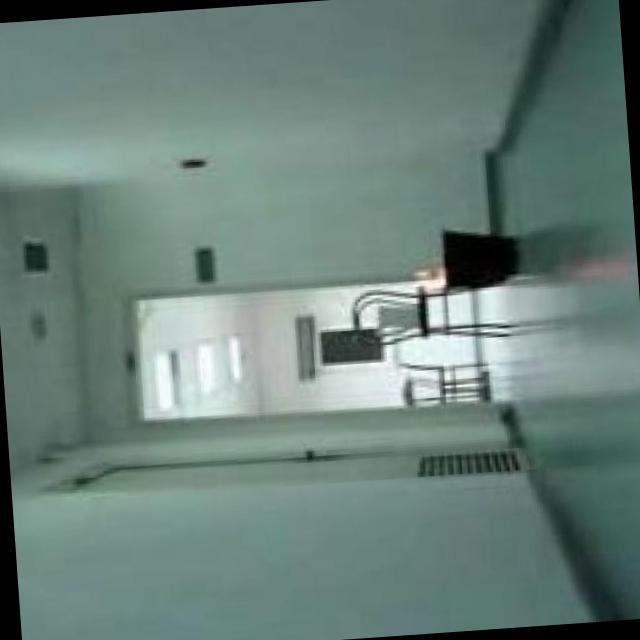Fire: (413, 266, 447, 295)
